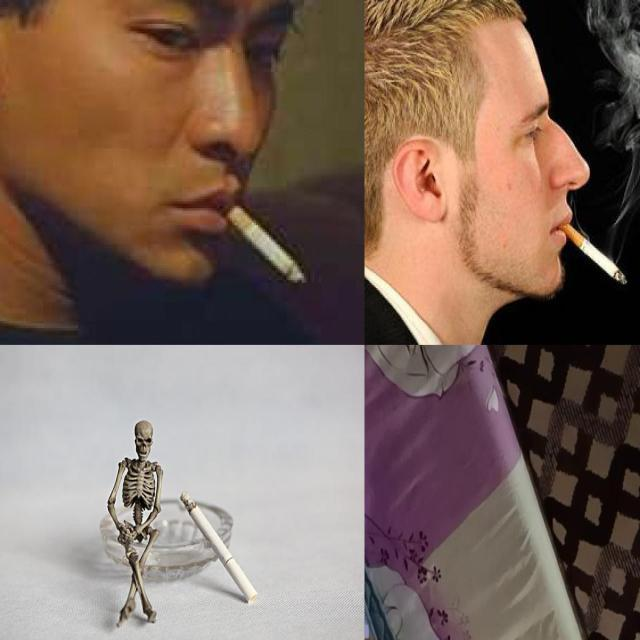smoking: (216, 190, 308, 288), (180, 490, 258, 604), (554, 216, 632, 294)
